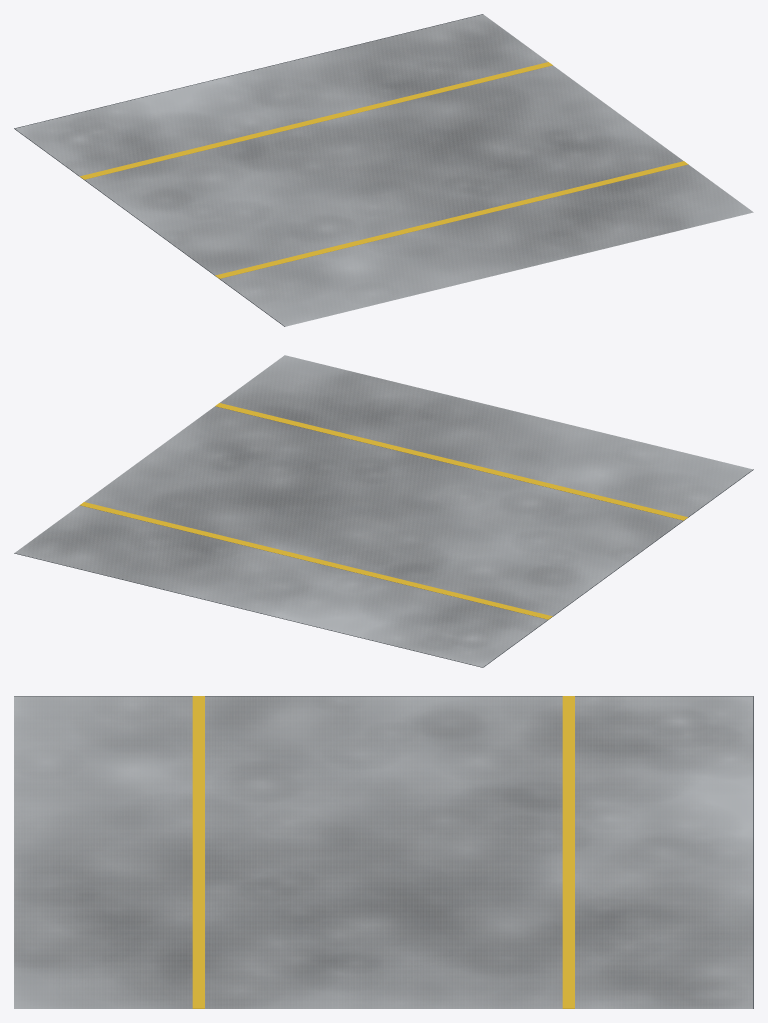
File: floor_6m_aisle.glb
3 views of the same model, one above another, from view 1: azimuth 30°, elevation 25°; view 2: azimuth 150°, elevation 25°; view 3: azimuth 270°, elevation 25° (orthographic). The views are drawn at different scales.
Visible parts, largest first — view 1: Floor_6m_Aisle_floor_concrete, Floor_6m_Aisle_safety_yellow, Floor_6m_Aisle_frame_dark; view 2: Floor_6m_Aisle_floor_concrete, Floor_6m_Aisle_safety_yellow, Floor_6m_Aisle_frame_dark; view 3: Floor_6m_Aisle_floor_concrete, Floor_6m_Aisle_safety_yellow, Floor_6m_Aisle_frame_dark.
Boxes of the visible parts, bbox=[...] form: Floor_6m_Aisle_floor_concrete: bbox=[15, 14, 753, 326]; Floor_6m_Aisle_safety_yellow: bbox=[80, 62, 688, 278]; Floor_6m_Aisle_frame_dark: bbox=[14, 14, 482, 326]; Floor_6m_Aisle_floor_concrete: bbox=[15, 355, 752, 667]; Floor_6m_Aisle_safety_yellow: bbox=[80, 403, 687, 619]; Floor_6m_Aisle_frame_dark: bbox=[14, 469, 753, 667]; Floor_6m_Aisle_floor_concrete: bbox=[14, 696, 753, 1008]; Floor_6m_Aisle_safety_yellow: bbox=[192, 696, 574, 1008]; Floor_6m_Aisle_frame_dark: bbox=[14, 696, 753, 1008].
Bounding box in the file's own units: 6 × 0.0025 × 6.
Materials: 3 (1 with a texture image).
